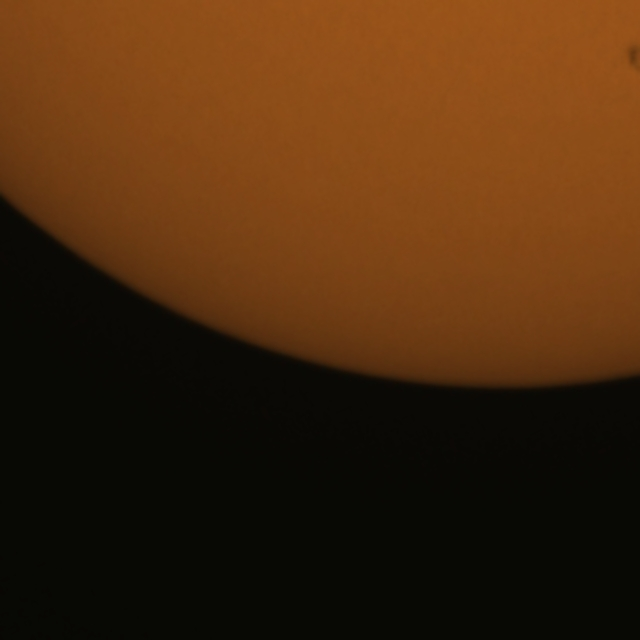sunspot: (624, 42, 640, 73)
